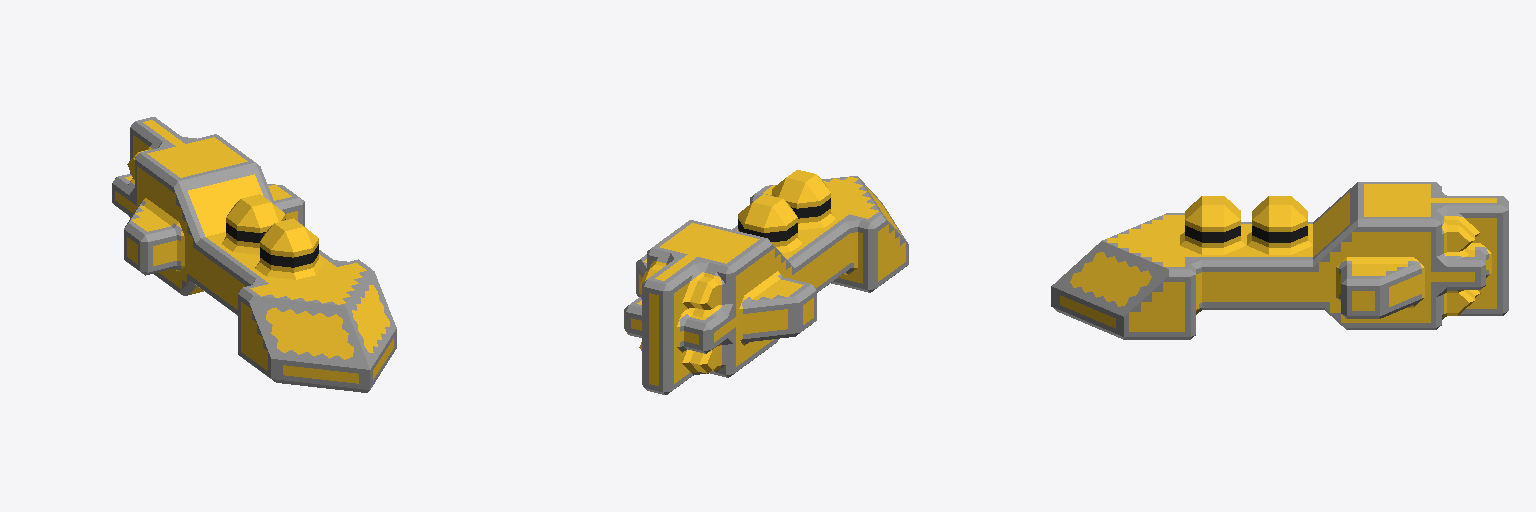
The picture shows the model from 3 angles: view 1: azimuth 30°, elevation 25°; view 2: azimuth 150°, elevation 25°; view 3: azimuth 270°, elevation 25°; orthographic projection.
Size of the model in its own units: 17 by 11 by 41.
1 materials, 1 textured.